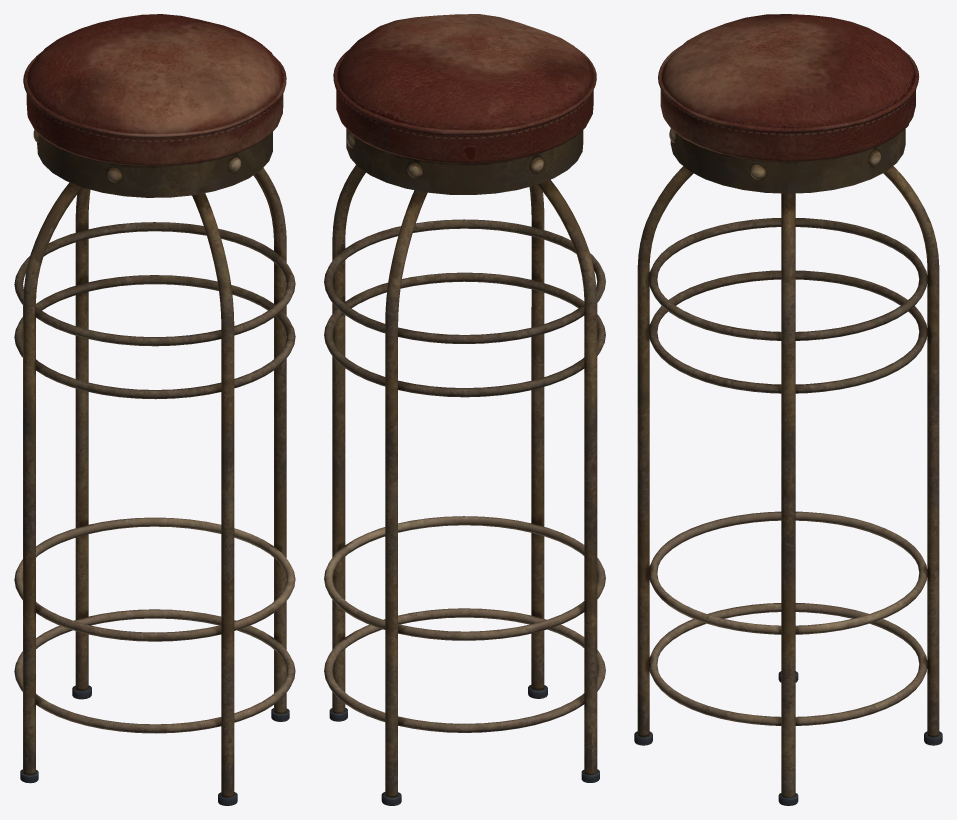
Rendered from metal_stool_01.glb.
3 renders of one model, left to right at view 1: azimuth 30°, elevation 25°; view 2: azimuth 150°, elevation 25°; view 3: azimuth 270°, elevation 25°, orthographic.
Parts seen in each view (by area): view 1: metal_stool_01; view 2: metal_stool_01; view 3: metal_stool_01.
Part boxes in pixels (<box>): metal_stool_01: <box>14,14,295,805</box>; metal_stool_01: <box>324,14,605,805</box>; metal_stool_01: <box>634,14,942,805</box>.
Size of the model in its own units: 0.352 by 0.8828 by 0.3546.
1 material, 1 textured.
